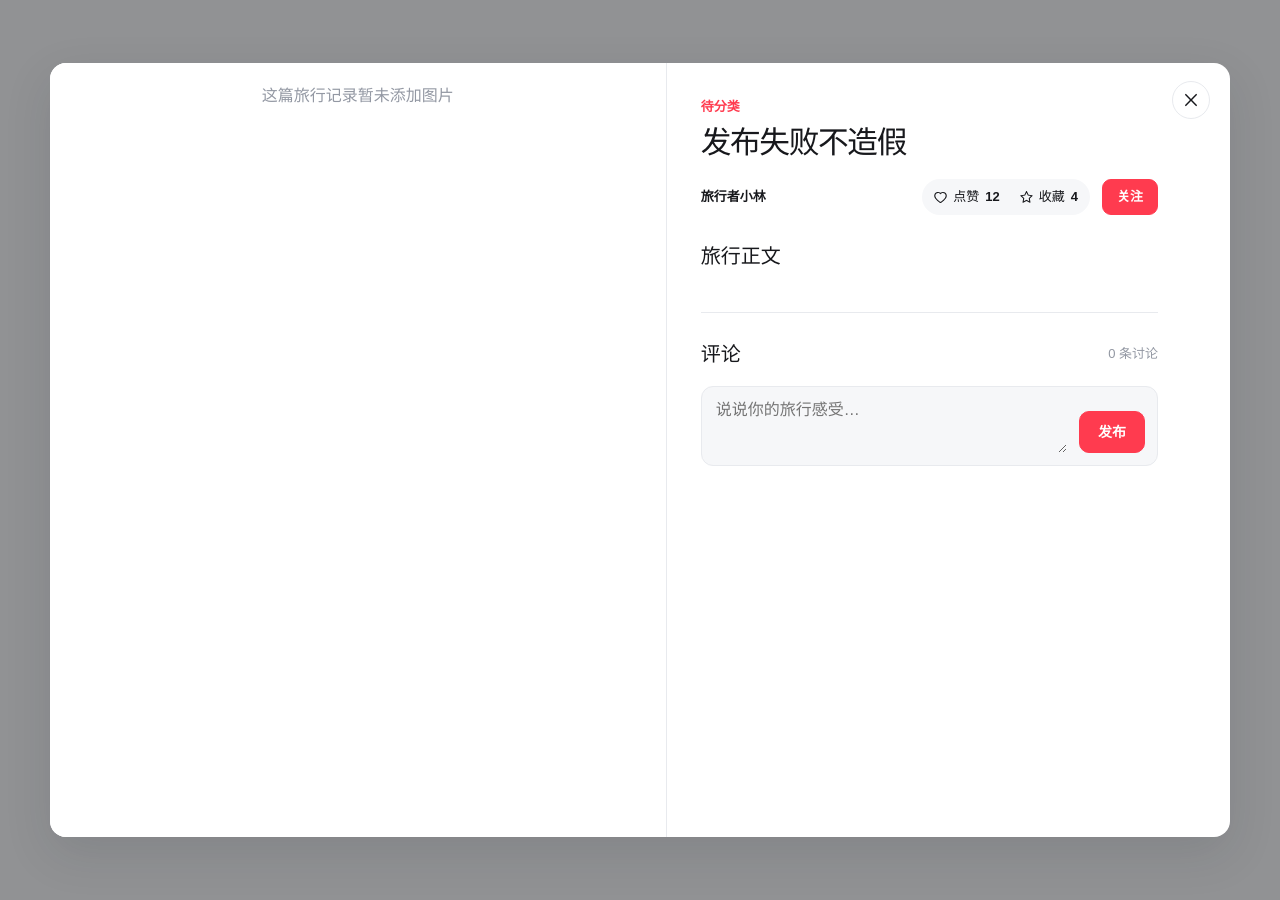
Test: 帖子详情 › 评论发布失败时不会制造缺少正式标识的本地评论
In the text box named "添加评论内容": coordinates (890, 426) x1=714 y1=399 x2=1067 y2=453, type "不会成为本地评论"
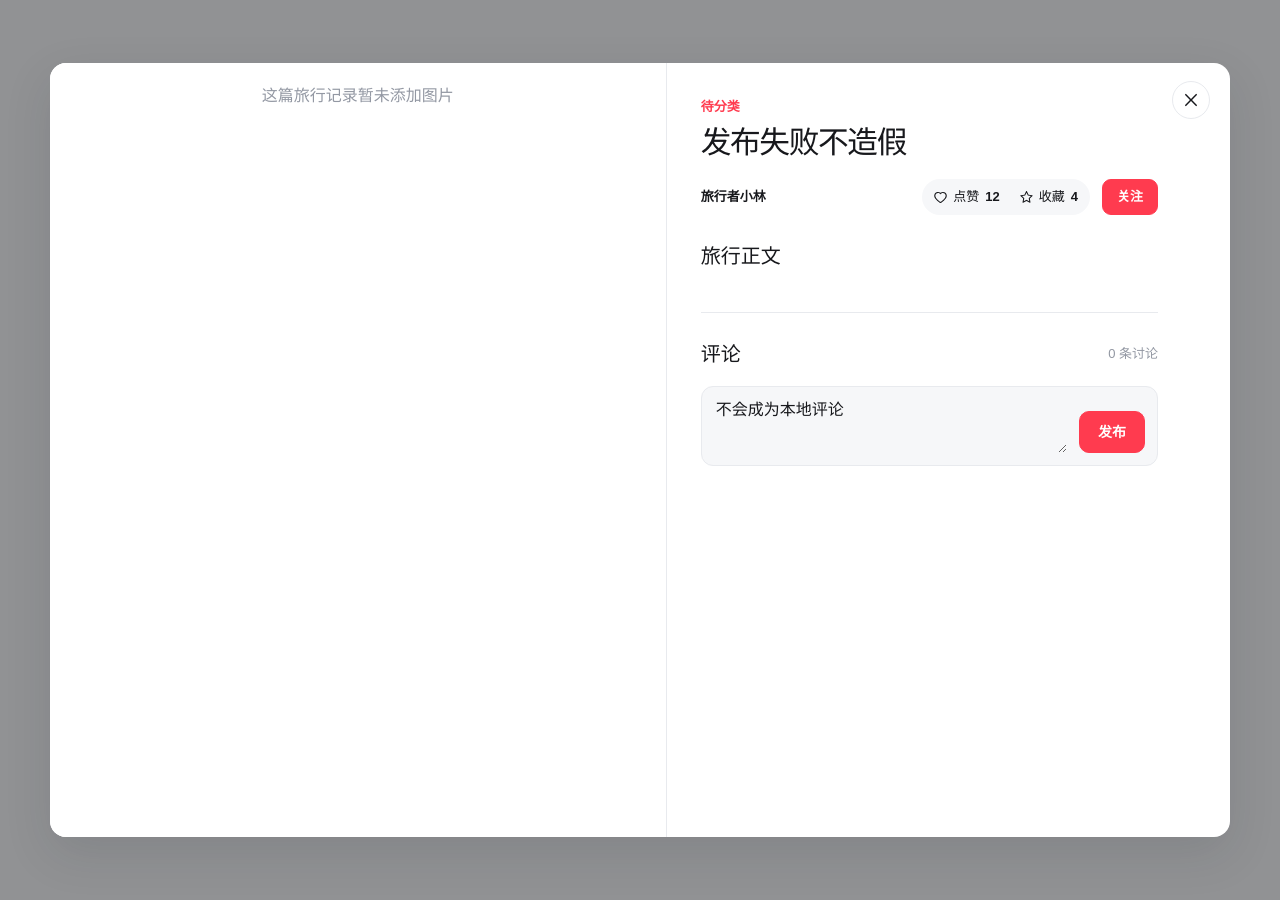
Click the button with aria-label "发布评论": coordinates (1112, 432) x1=1079 y1=411 x2=1145 y2=453
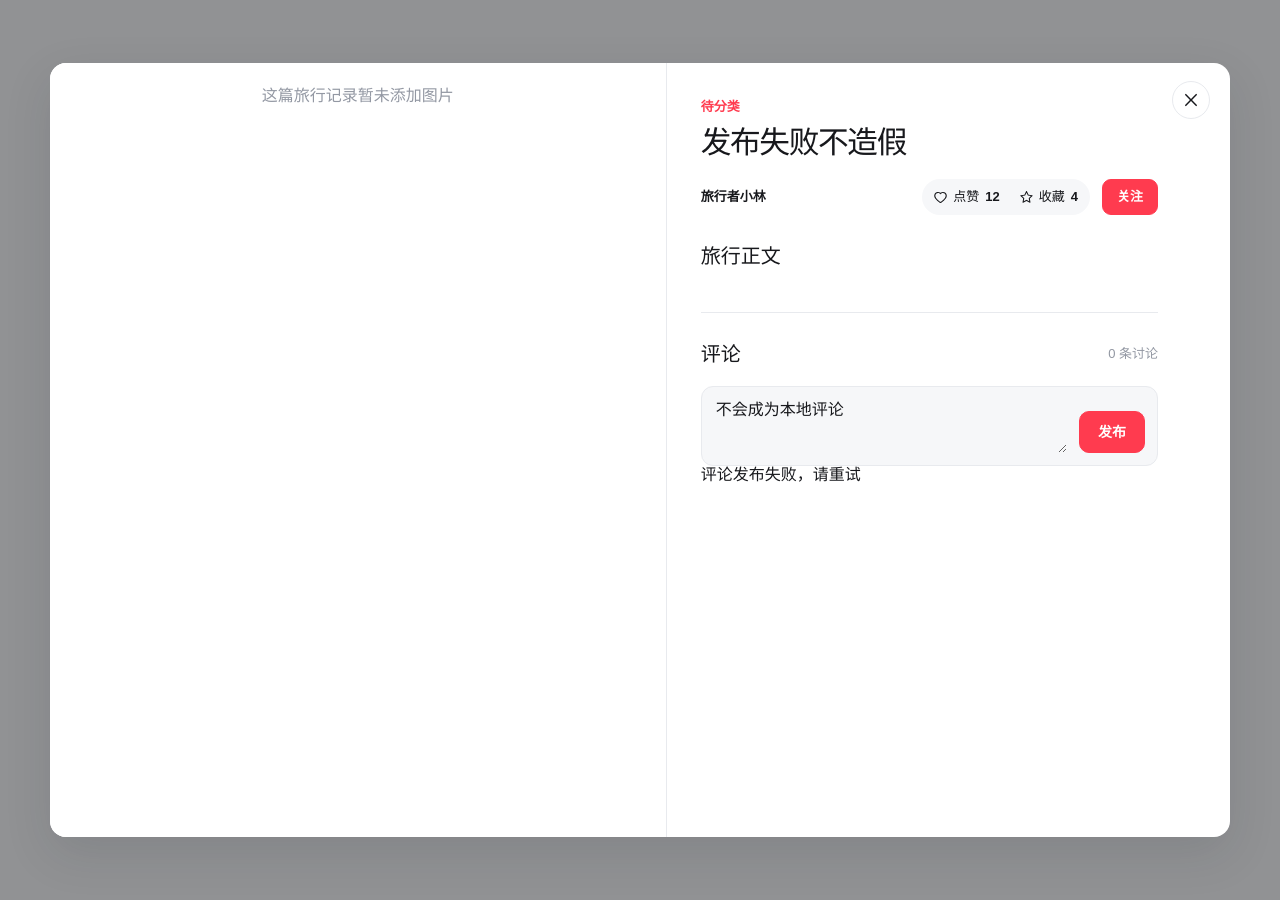
Expected: the message named "评论操作反馈" shows "发布失败", x1=701 y1=466 x2=861 y2=483
